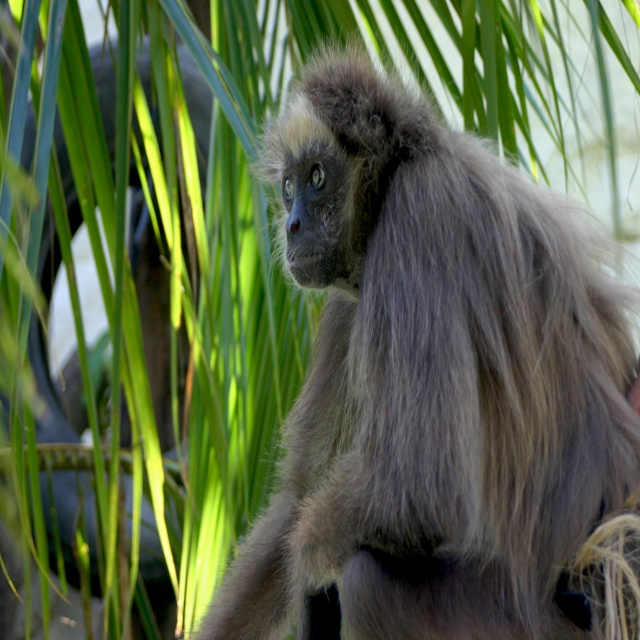Monkey: (194, 26, 640, 639)
